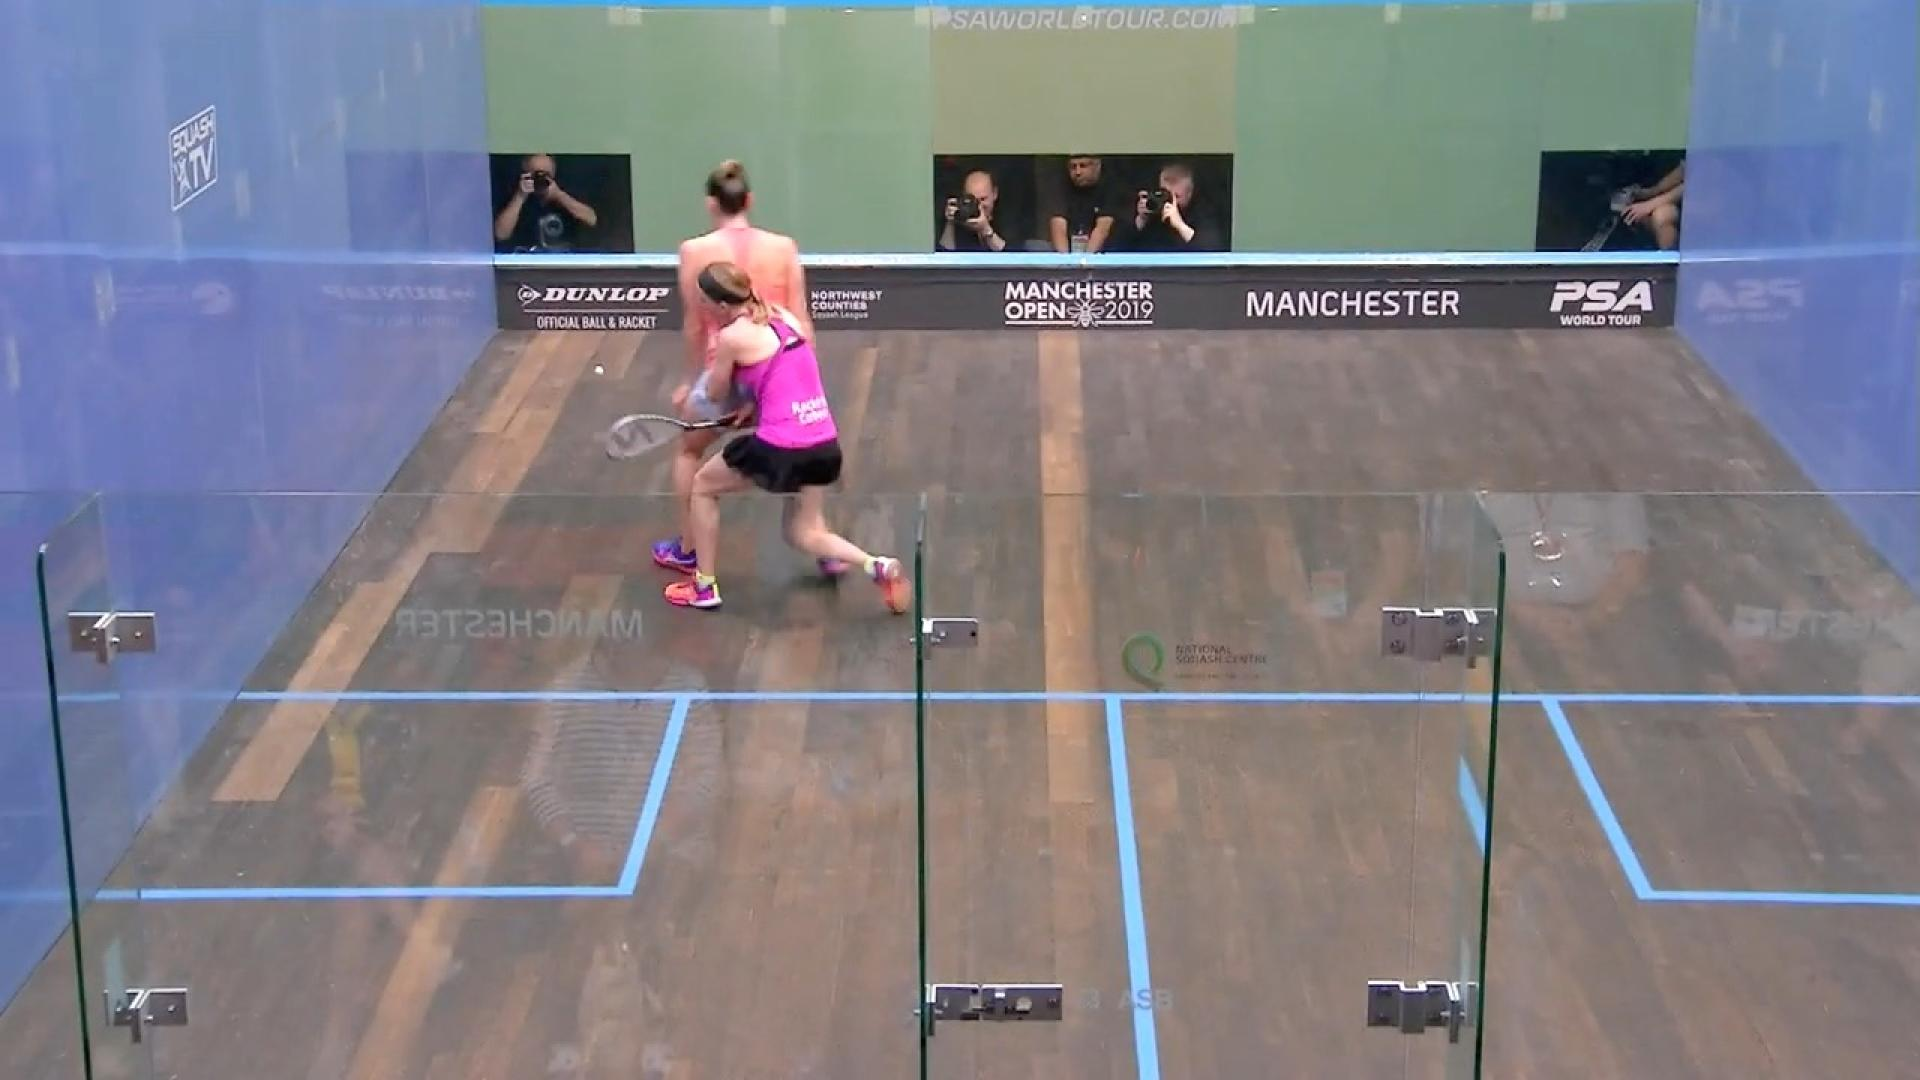Squash-Ball: (580, 349, 615, 396)
